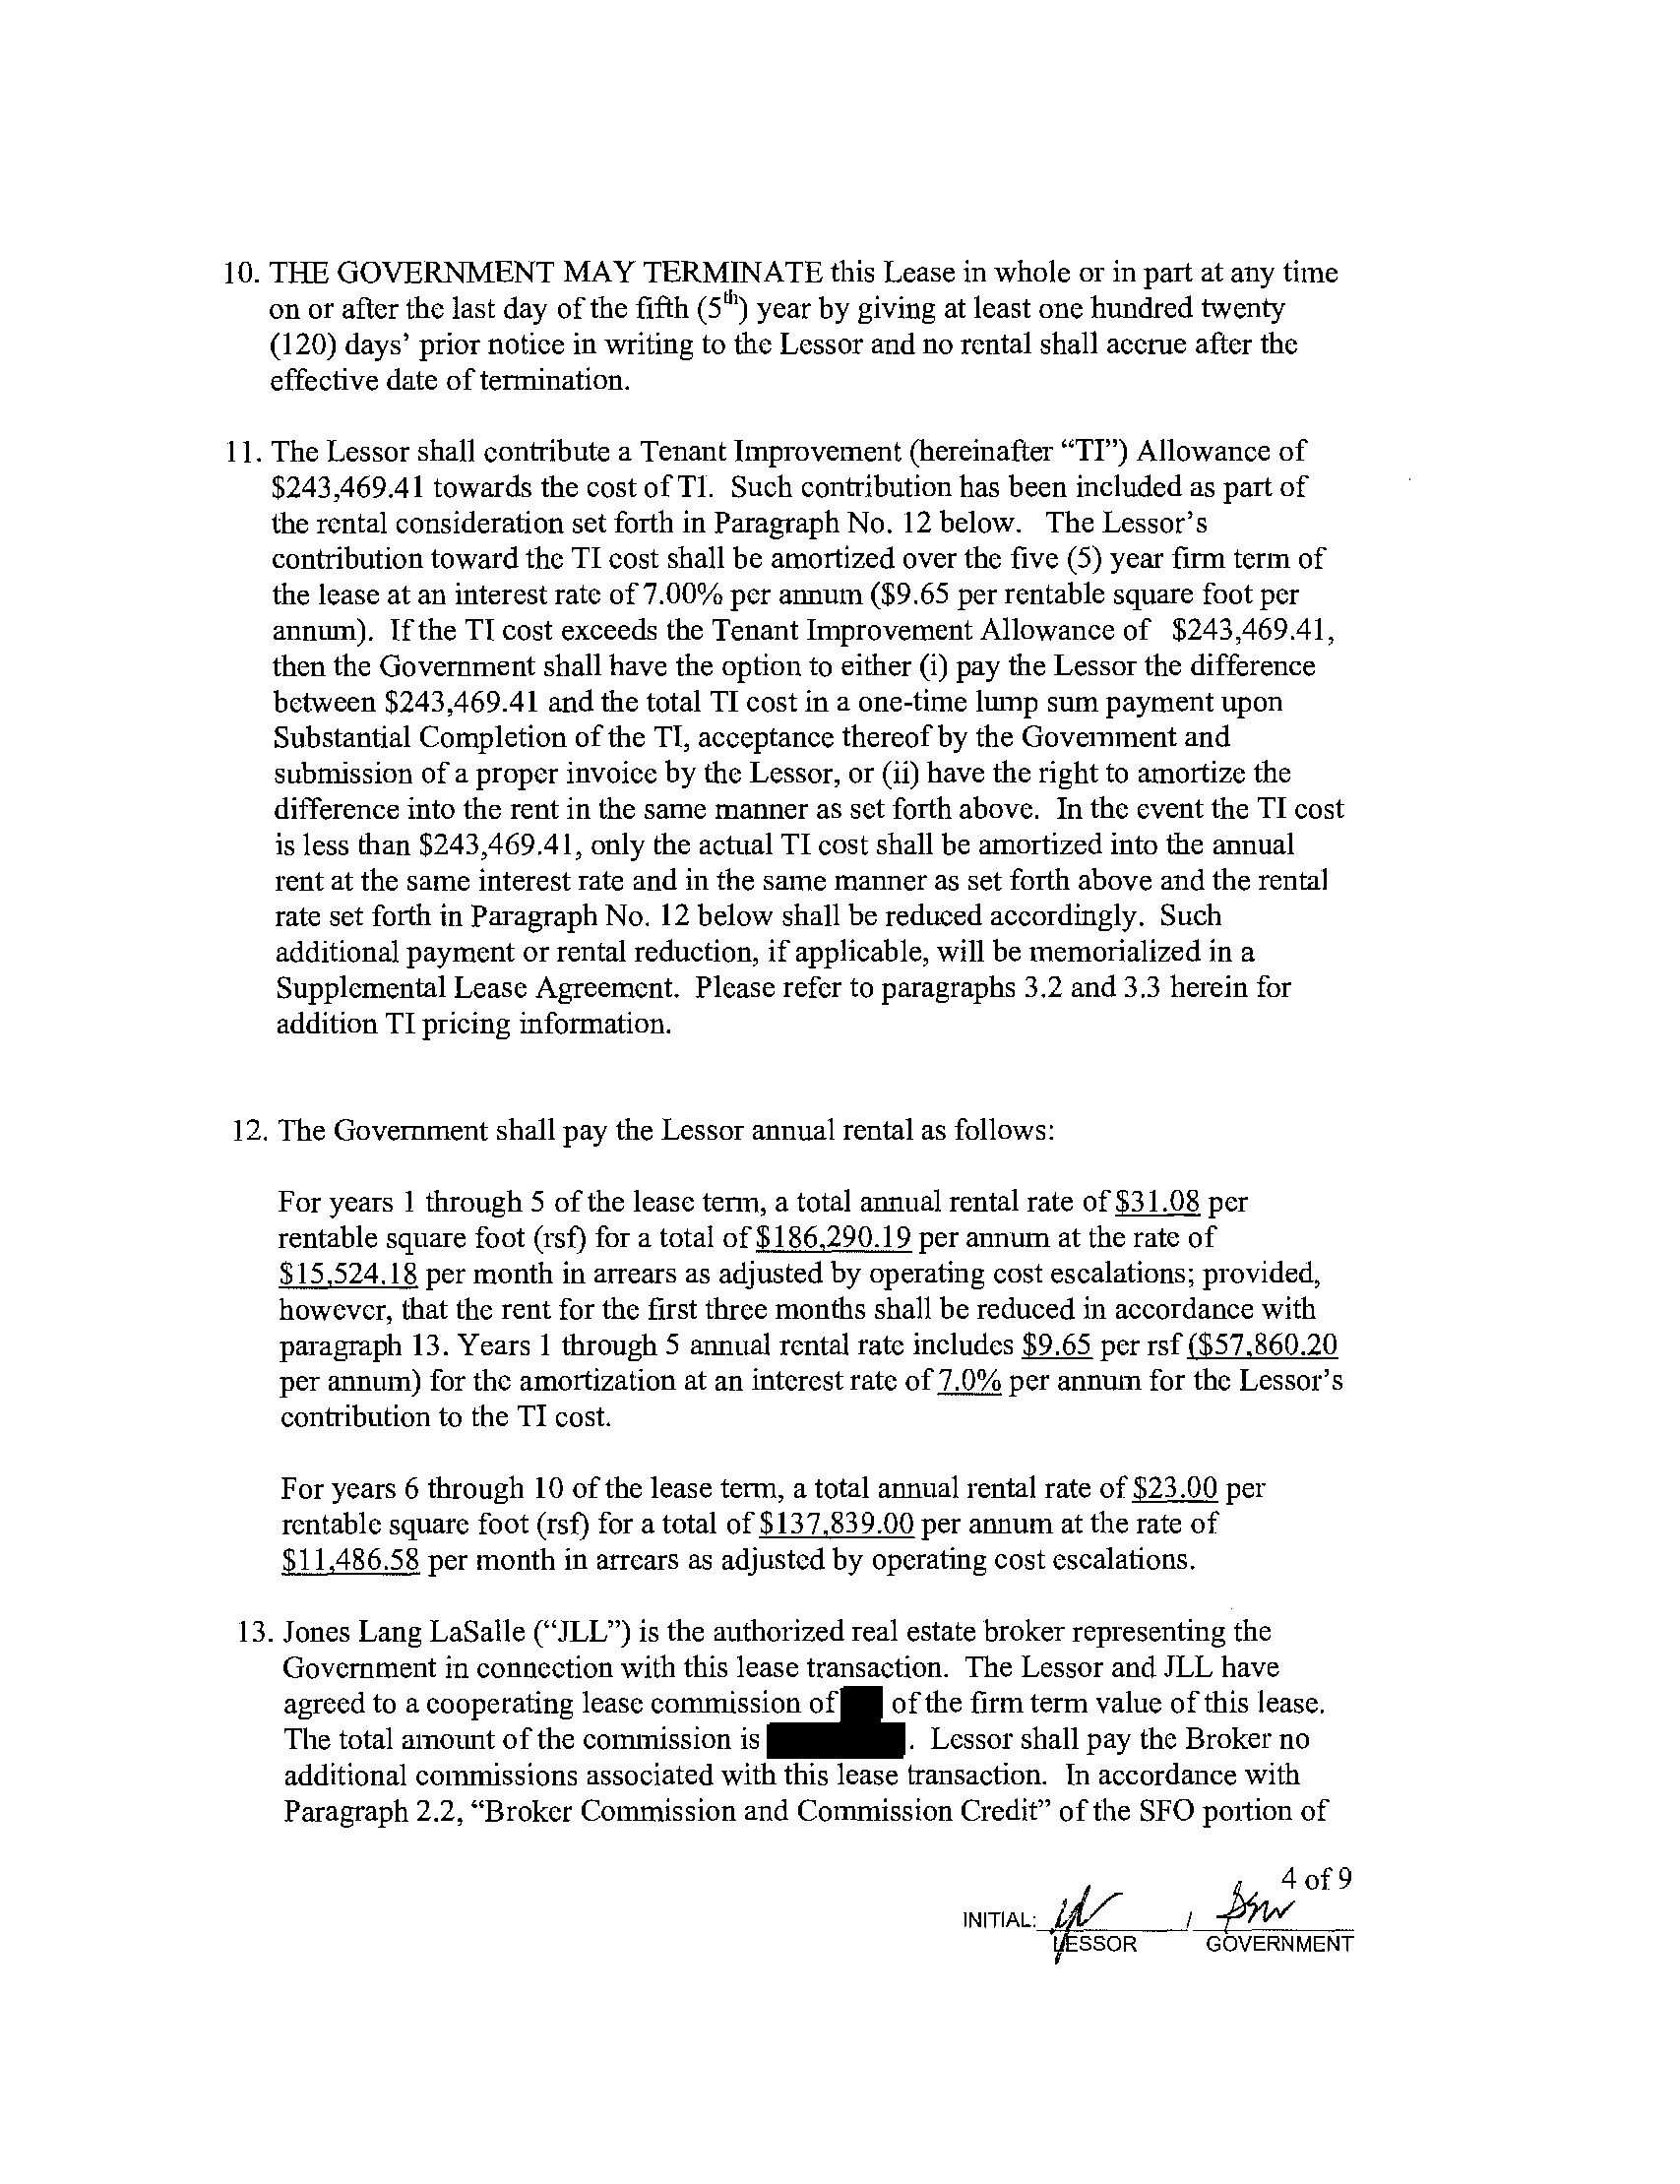handwritten: (1196, 1868, 1308, 1933), (1045, 1849, 1135, 1926)
